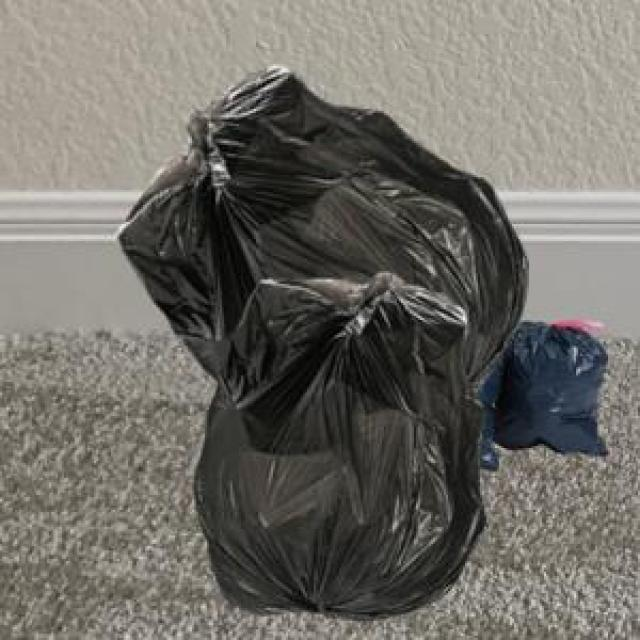Vinyl: (119, 68, 528, 616)
